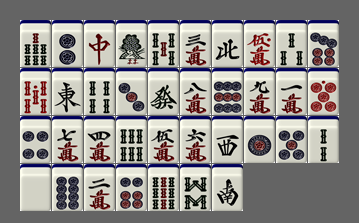0m: (244, 20, 275, 67)
0p: (308, 68, 339, 115)
0s: (20, 68, 51, 115)
1m: (276, 68, 307, 115)
1p: (244, 116, 275, 163)
1s: (116, 20, 147, 67)
1z: (52, 68, 83, 115)
2m: (84, 164, 115, 211)
2p: (52, 20, 83, 67)
2s: (308, 116, 339, 163)
2z: (212, 164, 243, 211)
3m: (180, 20, 211, 67)
3p: (116, 68, 147, 115)
3s: (276, 20, 307, 67)
3z: (212, 116, 243, 163)
4m: (84, 116, 115, 163)
4p: (20, 116, 51, 163)
4s: (84, 68, 115, 115)
4z: (212, 20, 243, 67)
5m: (148, 116, 179, 163)
5p: (276, 116, 307, 163)
5s: (148, 20, 179, 67)
5z: (20, 164, 51, 211)
6m: (180, 116, 211, 163)
6p: (116, 164, 147, 211)
6s: (116, 116, 147, 163)
6z: (148, 68, 179, 115)
7m: (52, 116, 83, 163)
7p: (308, 20, 339, 67)
7s: (20, 20, 51, 67)
7z: (84, 20, 115, 67)
8m: (180, 68, 211, 115)
8p: (52, 164, 83, 211)
8s: (180, 164, 211, 211)
9m: (244, 68, 275, 115)
9p: (212, 68, 243, 115)
9s: (148, 164, 179, 211)
